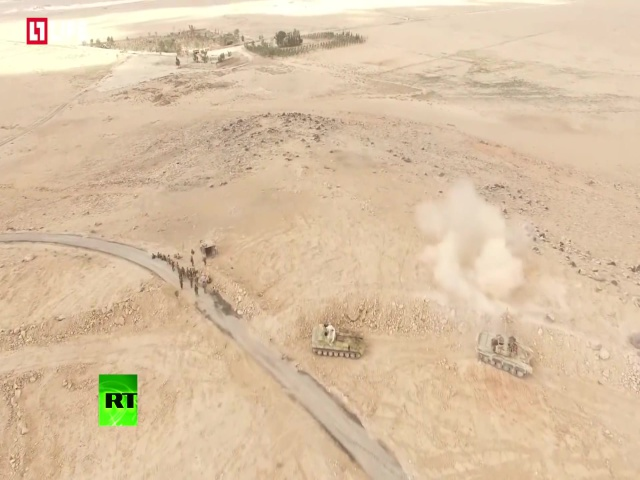vehicle: (474, 329, 533, 380), (311, 323, 365, 360)
